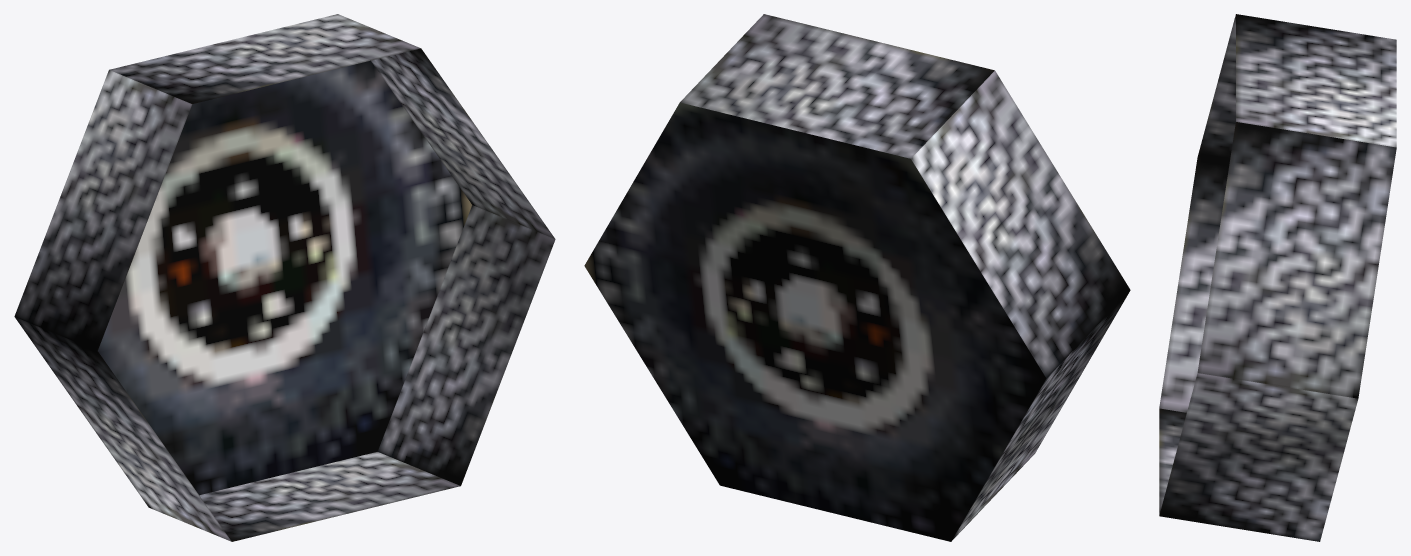
The model's file is GLA - Ground Vehicles - SCUD Launcher - Damage State 3 - UVScudLchr_d3.glb.
The picture shows the model from 3 angles, left to right: view 1: azimuth 30°, elevation 25°; view 2: azimuth 150°, elevation 25°; view 3: azimuth 270°, elevation 25°; orthographic projection. The views are drawn at different scales.
Visible parts, largest first — view 1: UVSCUDLCHR_D3; view 2: UVSCUDLCHR_D3; view 3: UVSCUDLCHR_D3.
Boxes of the visible parts, box(x1,y1,x2,y2) form: UVSCUDLCHR_D3: box(14, 14, 555, 541); UVSCUDLCHR_D3: box(584, 14, 1130, 541); UVSCUDLCHR_D3: box(1159, 14, 1396, 541).
Size of the model in its own units: 7.43 by 6.75 by 3.46.
Materials: 1 (1 with a texture image).
